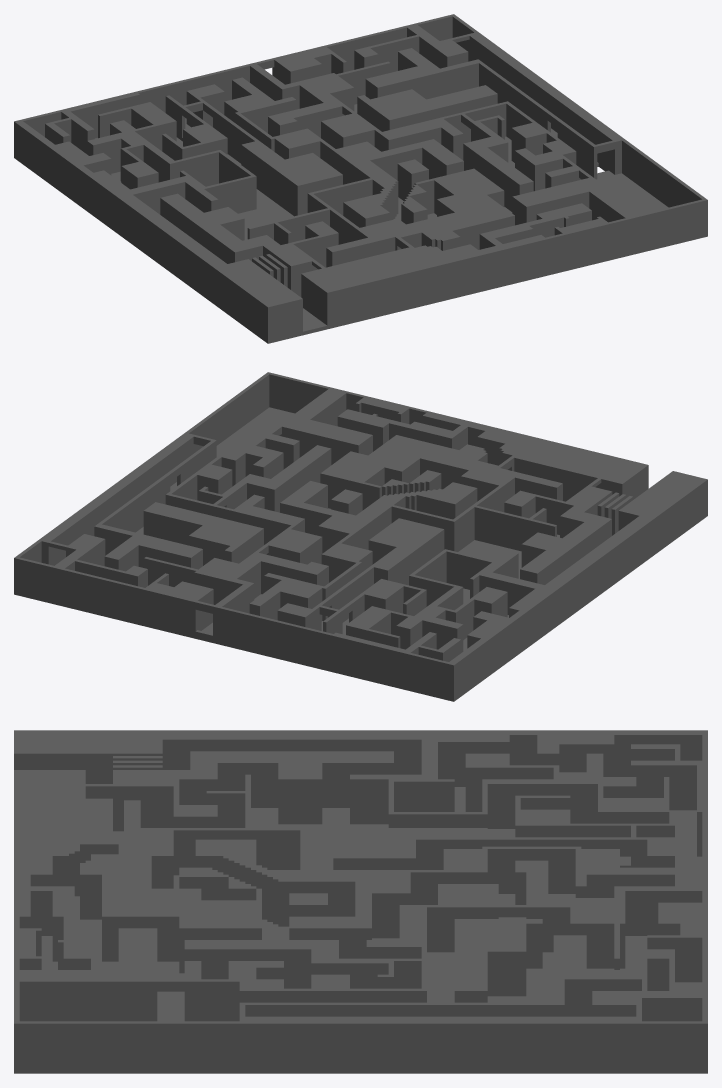
The model's file is Maze 1.obj.
3 views of the same model, one above another, from view 1: azimuth 30°, elevation 25°; view 2: azimuth 150°, elevation 25°; view 3: azimuth 270°, elevation 25° (orthographic). The views are drawn at different scales.
Visible parts, largest first — view 1: Maze; view 2: Maze; view 3: Maze.
Boxes of the visible parts, x1,y1,x2,y2 form: Maze: (14,14,707,343); Maze: (14,372,707,701); Maze: (14,730,707,1073).
Bounding box in the file's own units: 126 × 10 × 126.
Materials: 1 (1 with a texture image).
